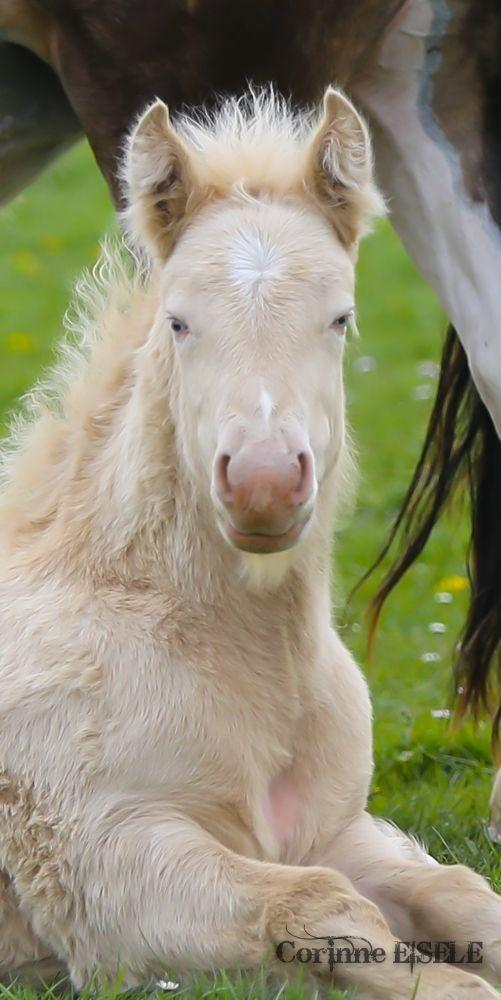horse: (1, 84, 498, 1000)
